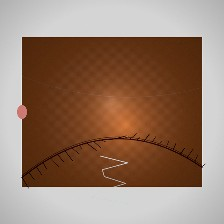foreign_body_visible: (159, 89, 180, 106)
